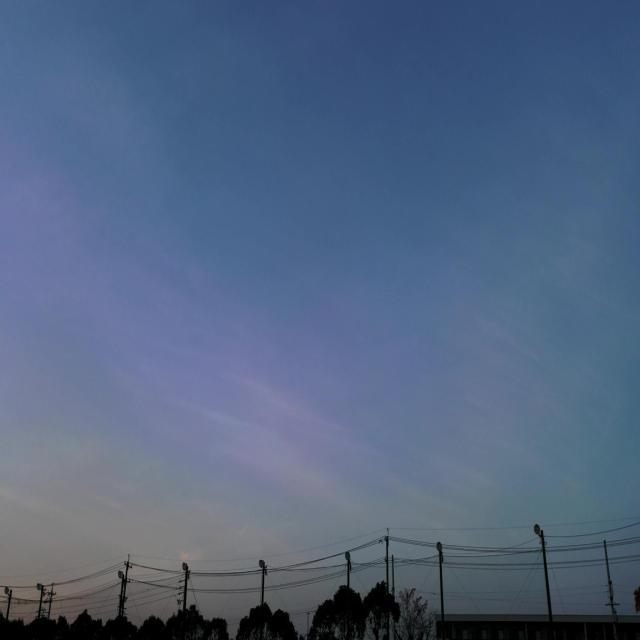Birds: (376, 536, 386, 547)
